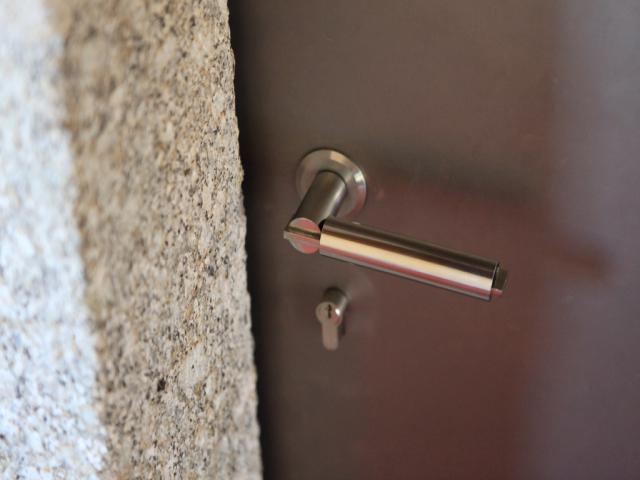Door-handle: (283, 150, 509, 302)
